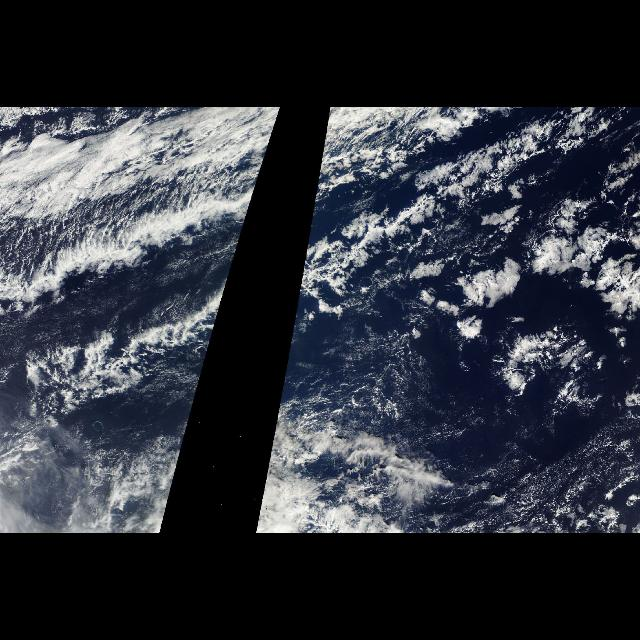Fish: (278, 129, 538, 405), (36, 129, 274, 405)
